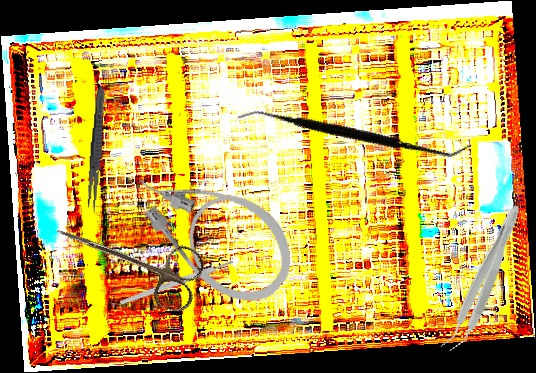Cannula: (117, 133, 312, 323)
Dressing Forceps: (85, 85, 108, 214)
Iris Scissors: (44, 203, 209, 316)
Scalpel Handle: (119, 258, 235, 307)
Spatula Surgical: (236, 40, 472, 224)
Tissue Forceps: (439, 199, 527, 358)
